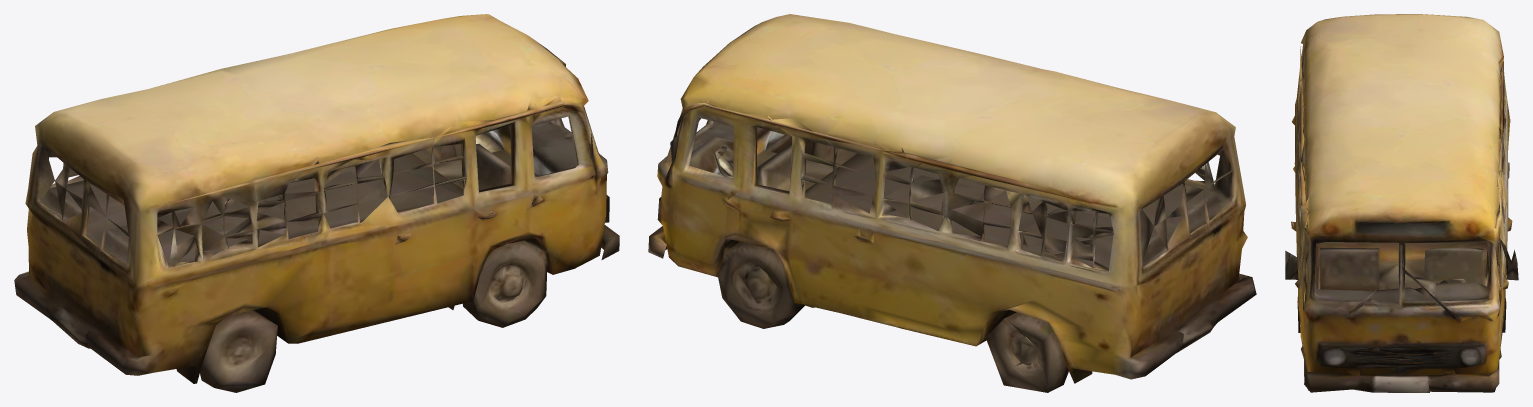
The model's file is e_paz.glb.
The picture shows the model from 3 angles, left to right: view 1: azimuth 30°, elevation 25°; view 2: azimuth 150°, elevation 25°; view 3: azimuth 270°, elevation 25°; orthographic projection. The views are drawn at different scales.
Parts seen in each view (by area): view 1: tripo_node_cf89693c-c18f-457d-8c49-658bc0af3e17; view 2: tripo_node_cf89693c-c18f-457d-8c49-658bc0af3e17; view 3: tripo_node_cf89693c-c18f-457d-8c49-658bc0af3e17.
Part boxes in pixels (<box>): tripo_node_cf89693c-c18f-457d-8c49-658bc0af3e17: <box>14,14,619,392</box>; tripo_node_cf89693c-c18f-457d-8c49-658bc0af3e17: <box>648,14,1256,392</box>; tripo_node_cf89693c-c18f-457d-8c49-658bc0af3e17: <box>1285,14,1518,392</box>.
Bounding box in the file's own units: 1 × 0.4589 × 0.4457.
1 material, 1 textured.
